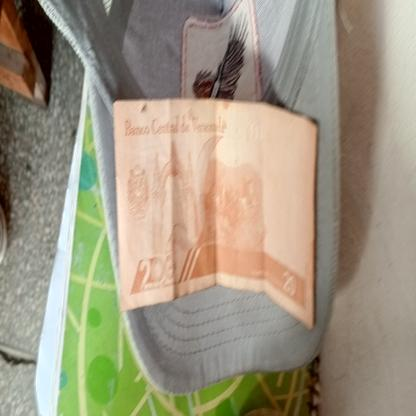twenty-back-vef: (112, 97, 318, 330)
